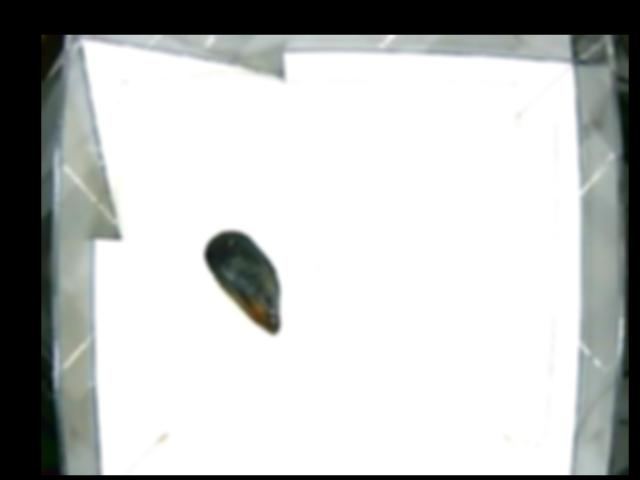Shell: (204, 230, 282, 334)
